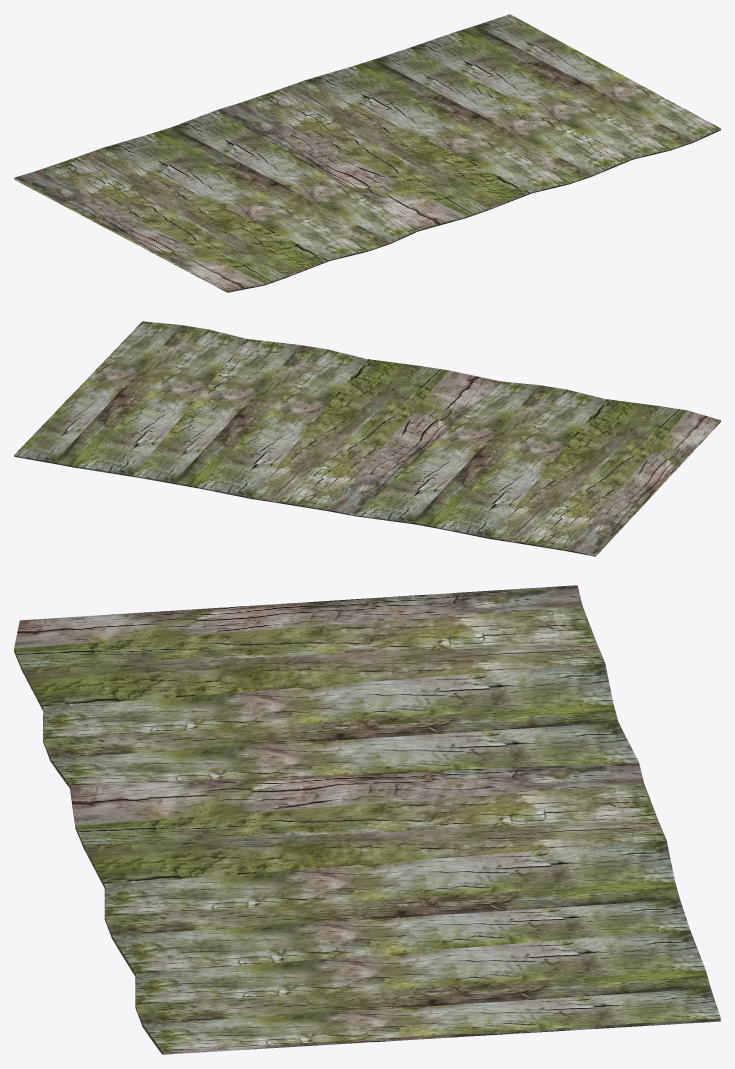
Rendered from rampe_001_19018_colider.fbx.
3 views of the same model, one above another, from view 1: azimuth 30°, elevation 25°; view 2: azimuth 150°, elevation 25°; view 3: azimuth 270°, elevation 25° (orthographic). The views are drawn at different scales.
Visible parts, largest first — view 1: Ramp_001__19__018; view 2: Ramp_001__19__018; view 3: Ramp_001__19__018.
Boxes of the visible parts, left/top/right/bottom form: Ramp_001__19__018: left=14, top=14, right=720, bottom=292; Ramp_001__19__018: left=14, top=321, right=720, bottom=556; Ramp_001__19__018: left=14, top=585, right=720, bottom=1054.
Size of the model in its own units: 938 by 3 by 600.
